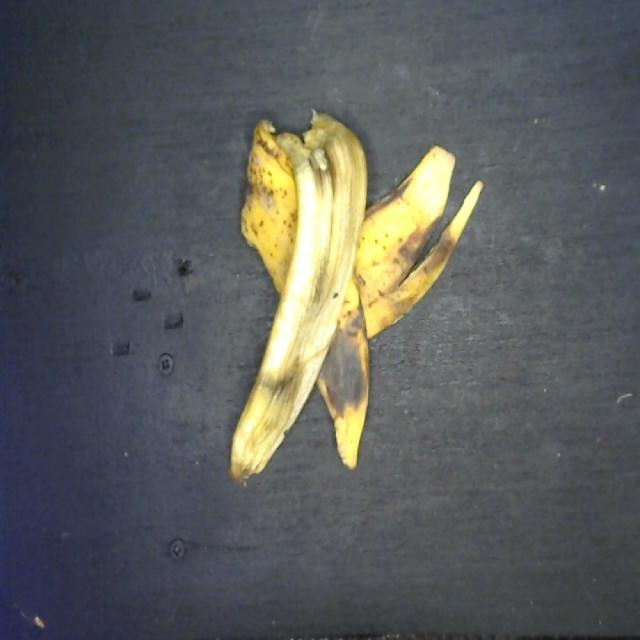biodegradable: (224, 103, 485, 495)
